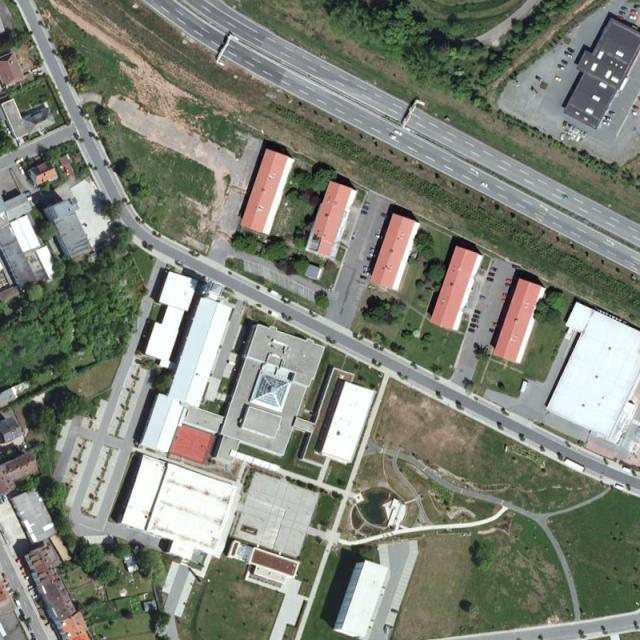vehicle: (14, 157, 24, 165), (466, 327, 477, 334), (19, 166, 26, 177), (470, 322, 479, 330), (380, 212, 390, 219), (370, 247, 380, 254), (490, 266, 500, 273), (488, 329, 499, 335), (64, 166, 70, 177), (501, 298, 510, 305), (375, 234, 384, 241), (368, 252, 378, 258), (630, 109, 638, 116), (632, 104, 640, 111), (558, 64, 566, 71), (567, 47, 575, 54), (618, 10, 626, 17), (487, 272, 496, 278), (473, 309, 482, 315), (471, 314, 480, 320), (470, 318, 479, 324), (493, 322, 502, 328), (502, 293, 511, 299), (506, 278, 515, 284), (394, 130, 403, 136), (630, 10, 639, 16), (620, 6, 629, 12), (565, 52, 574, 58), (6, 127, 12, 136), (363, 266, 373, 271), (486, 277, 494, 283), (506, 283, 514, 289), (481, 182, 489, 188), (389, 134, 397, 140), (604, 116, 612, 122), (535, 76, 543, 82), (561, 59, 569, 65), (359, 210, 368, 215), (367, 257, 376, 262), (362, 270, 371, 275), (628, 15, 637, 20), (561, 194, 568, 200), (362, 206, 370, 211), (602, 121, 610, 126), (608, 111, 616, 116), (554, 77, 562, 82), (363, 202, 371, 206), (634, 6, 640, 10), (636, 95, 640, 101)
